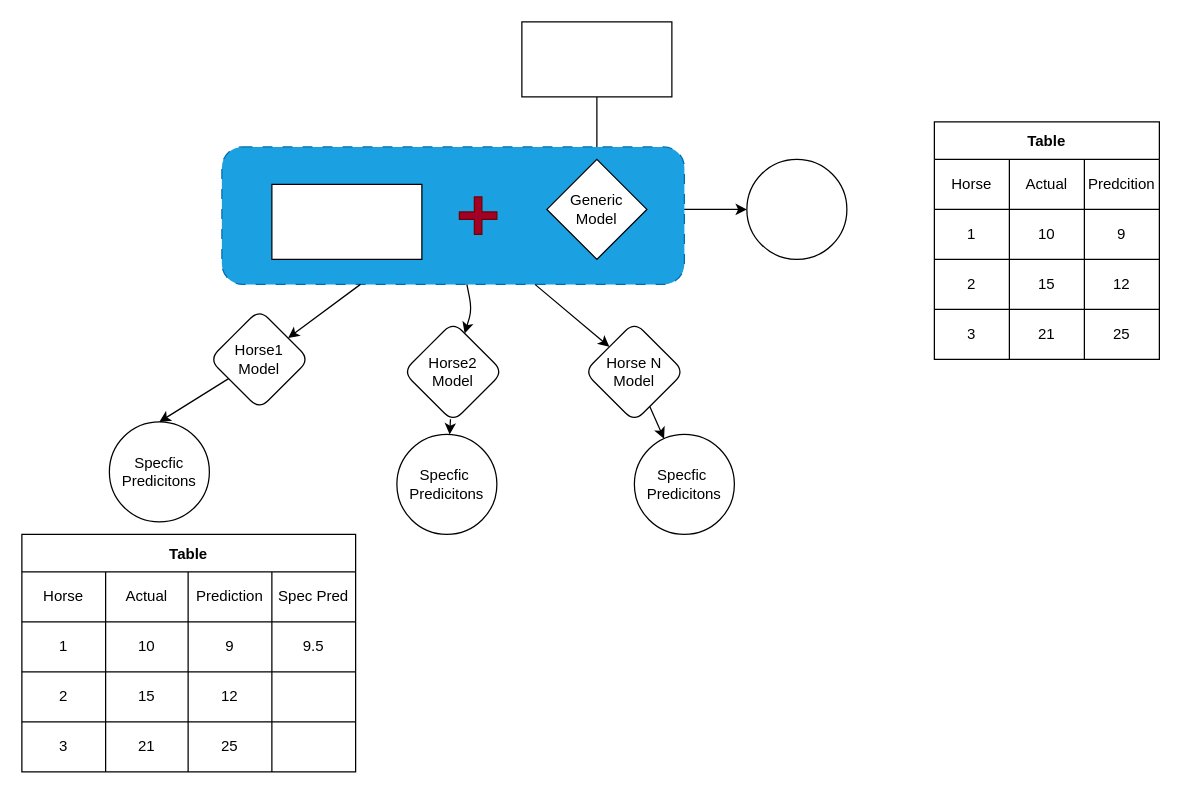
This 1181x794 diagram has some shape labels left out. Each missing label, with the centre of its shape:
General Predicitons: point 796,208
Horse Specific Data 2021: point 346,221
Training data 2016-2020: point 596,59
